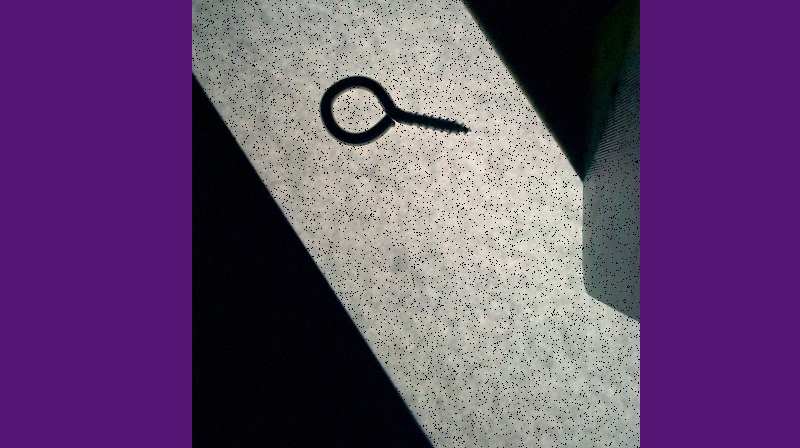O001: (317, 71, 476, 155)
